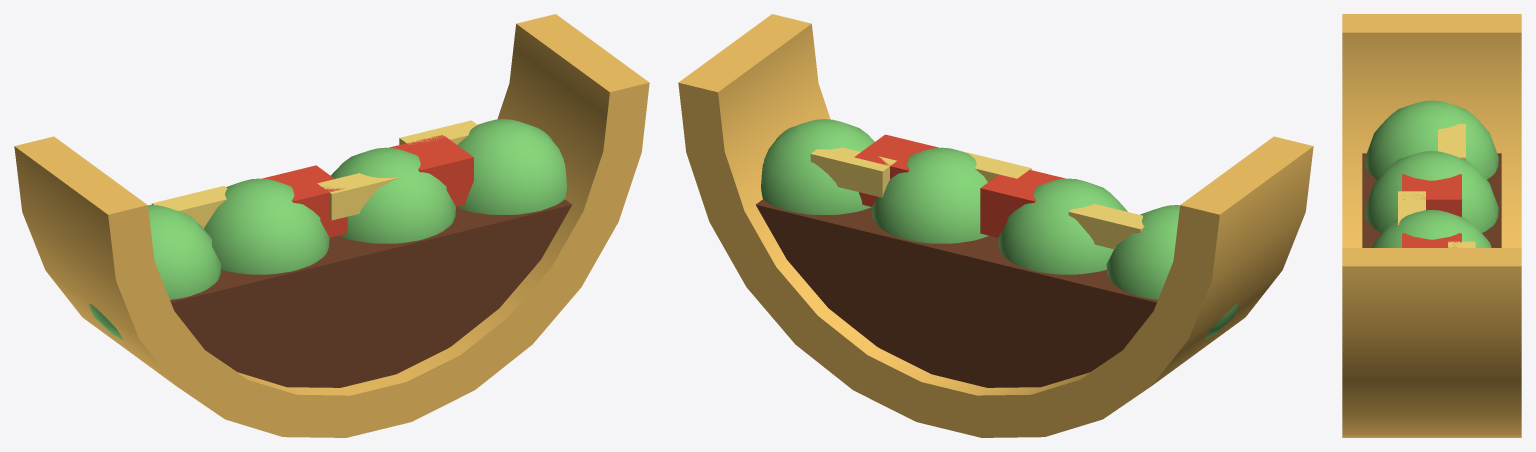
Rendered from Taco.glb.
3 renders of one model, left to right at view 1: azimuth 30°, elevation 25°; view 2: azimuth 150°, elevation 25°; view 3: azimuth 270°, elevation 25°, orthographic. The views are drawn at different scales.
Visible parts, largest first — view 1: tacoShell, pattyBrown, leafLight (×4), pizzaSauce (×2), pizzaCheese (×3); view 2: tacoShell, pattyBrown, leafLight (×4), pizzaCheese (×3), pizzaSauce (×2); view 3: tacoShell, leafLight (×3), pizzaSauce (×2), pizzaCheese (×3), pattyBrown.
Part boxes in pixels (x1,y1,x2,y2): tacoShell: (14,14,649,437); pattyBrown: (170,199,572,387); leafLight (×4): (88,119,566,339); pizzaSauce (×2): (262,135,473,237); pizzaCheese (×3): (151,120,477,228); tacoShell: (678,14,1313,437); pattyBrown: (755,199,1157,387); leafLight (×4): (761,119,1239,339); pizzaCheese (×3): (810,147,1144,249); pizzaSauce (×2): (854,134,1065,237); tacoShell: (1342,14,1521,437); leafLight (×3): (1365,100,1498,247); pizzaSauce (×2): (1402,174,1461,247); pizzaCheese (×3): (1398,124,1475,247); pattyBrown: (1362,153,1501,247).
Bounding box in the file's own units: 0.3 × 0.1489 × 0.09.
